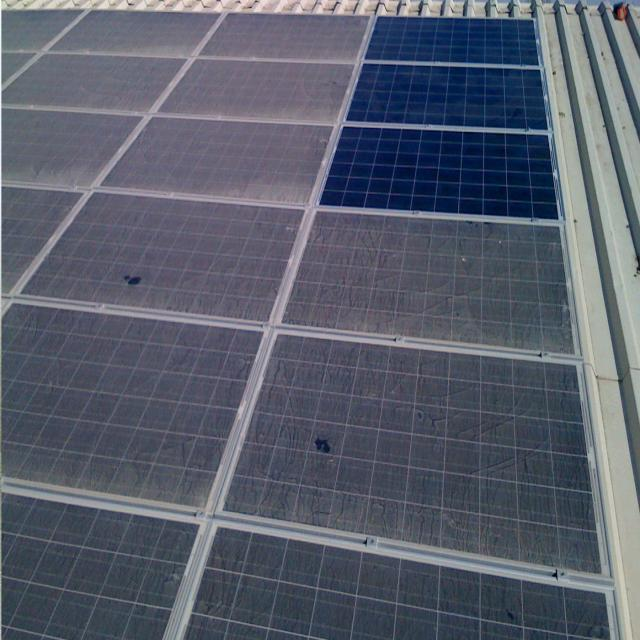dust-solar-panel: (0, 11, 617, 640)
